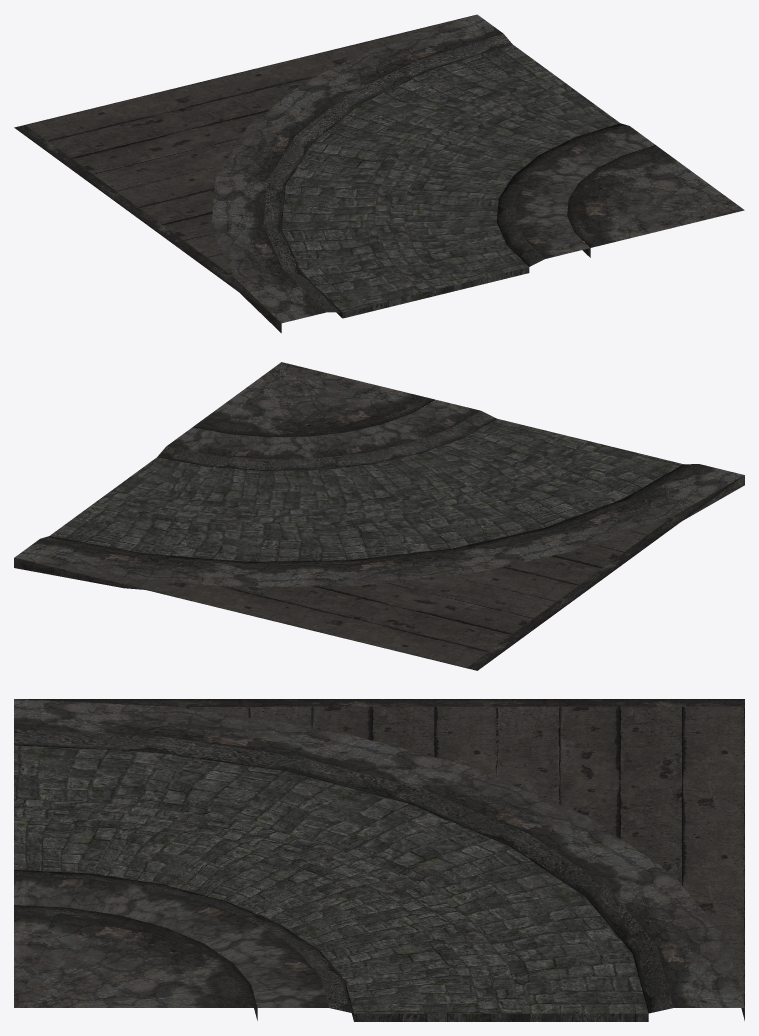
The model's file is alley_01_elbow_90_02.DAE.
3 views of the same model, one above another, from view 1: azimuth 30°, elevation 25°; view 2: azimuth 150°, elevation 25°; view 3: azimuth 270°, elevation 25° (orthographic). The views are drawn at different scales.
Visible parts, largest first — view 1: Box062, Object002, Box040; view 2: Box062, Object002, Box040; view 3: Box062, Object002, Box040.
Part boxes in pixels (<box>): Box062: <box>281,44,619,318</box>; Object002: <box>14,14,744,333</box>; Box040: <box>25,15,474,276</box>; Box062: <box>50,418,683,561</box>; Object002: <box>14,362,744,670</box>; Box040: <box>18,516,672,667</box>; Box062: <box>14,745,648,1021</box>; Object002: <box>14,699,744,1020</box>; Box040: <box>179,706,744,1007</box>.
Bounding box in the file's own units: 12 × 0.25 × 12.
